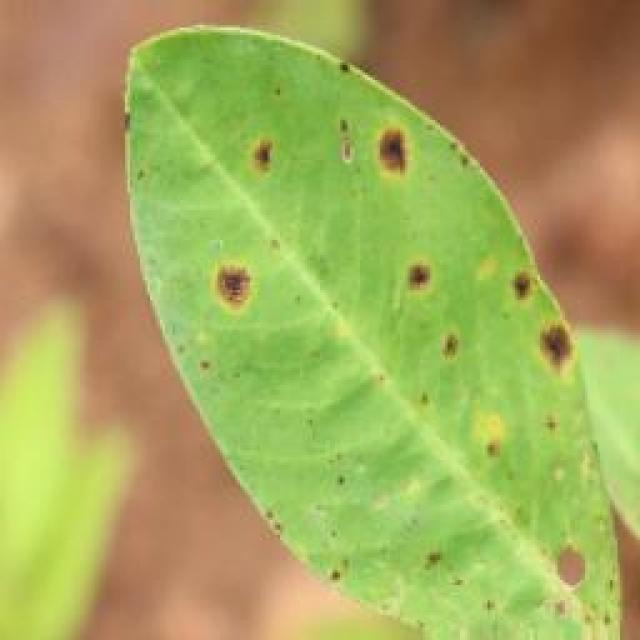Early_leaf_spot: (495, 223, 593, 400), (310, 108, 414, 212), (217, 103, 306, 215), (198, 242, 278, 346), (377, 229, 445, 321), (548, 508, 603, 602), (463, 409, 527, 481), (408, 304, 472, 375)
